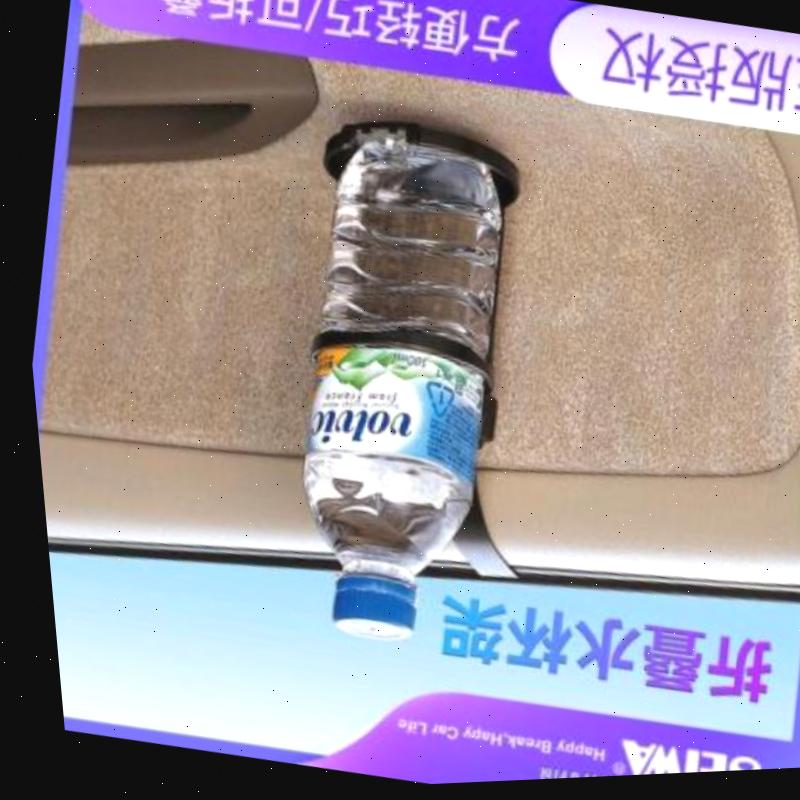botella: (245, 127, 539, 658)
